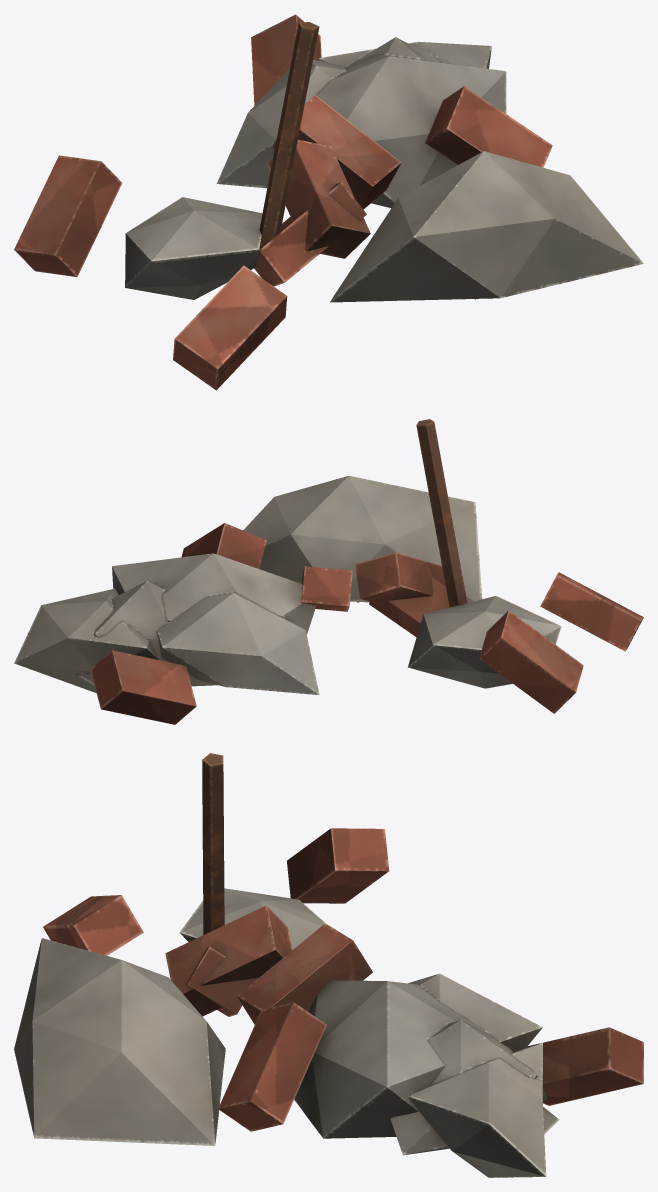
File: Escombros_Pequeno.glb
3 views of the same model, one above another, from view 1: azimuth 30°, elevation 25°; view 2: azimuth 150°, elevation 25°; view 3: azimuth 270°, elevation 25° (orthographic). The views are drawn at different scales.
Visible parts, largest first — view 1: Escombros_Pequeno; view 2: Escombros_Pequeno; view 3: Escombros_Pequeno.
Boxes of the visible parts, bbox=[...] form: Escombros_Pequeno: bbox=[14, 14, 643, 390]; Escombros_Pequeno: bbox=[14, 419, 643, 724]; Escombros_Pequeno: bbox=[14, 753, 643, 1177].
Bounding box in the file's own units: 4.59 × 2.23 × 4.3.
1 material, 1 textured.
